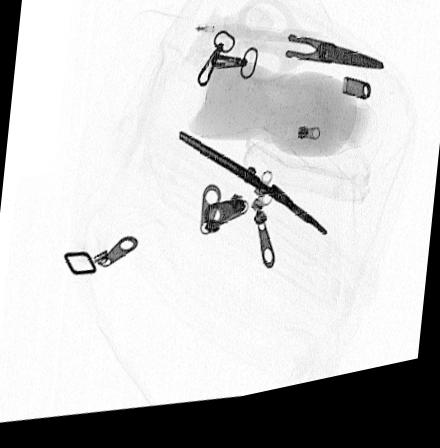Scissors: (173, 134, 330, 255), (233, 4, 388, 97)
